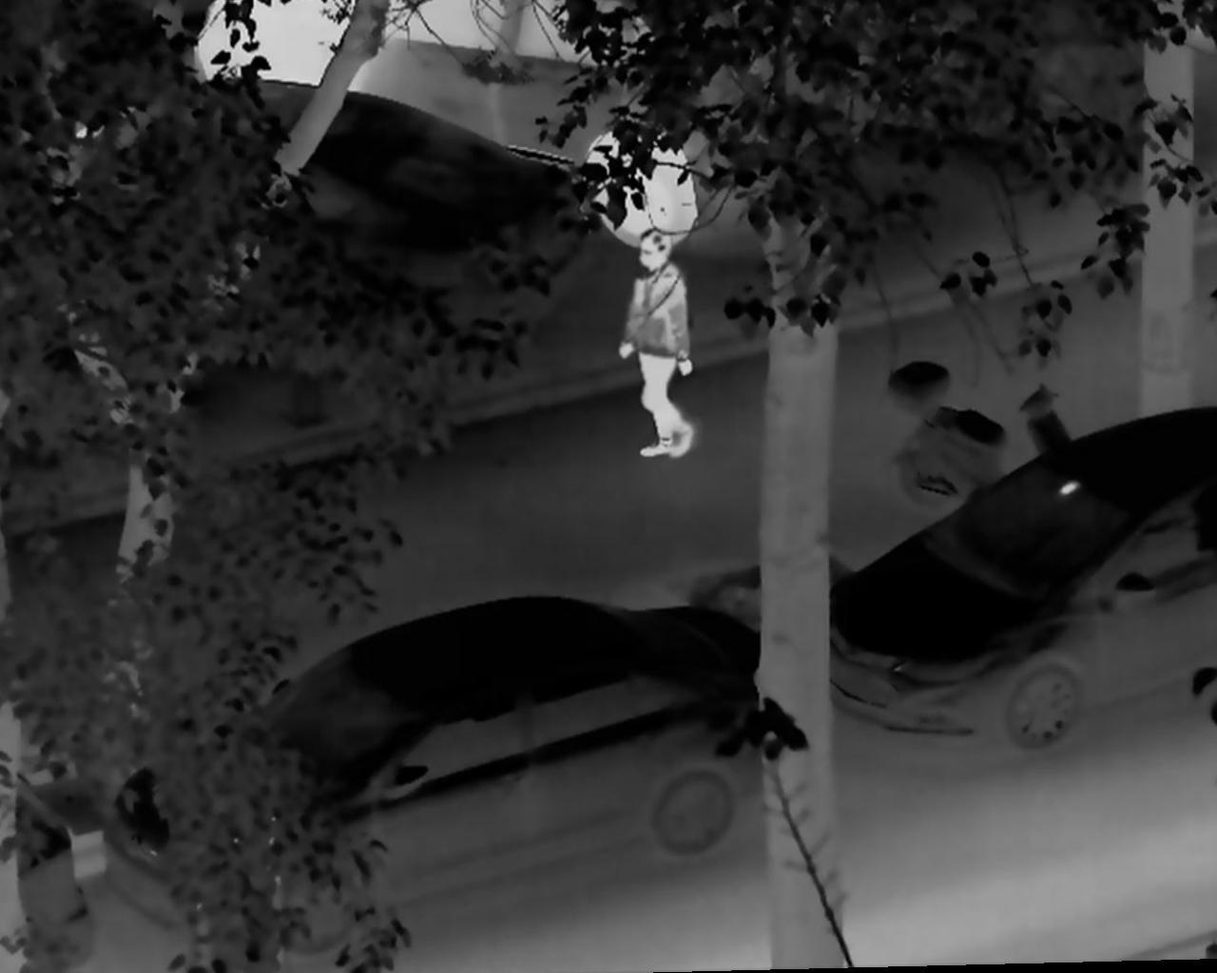person: (601, 228, 700, 465)
